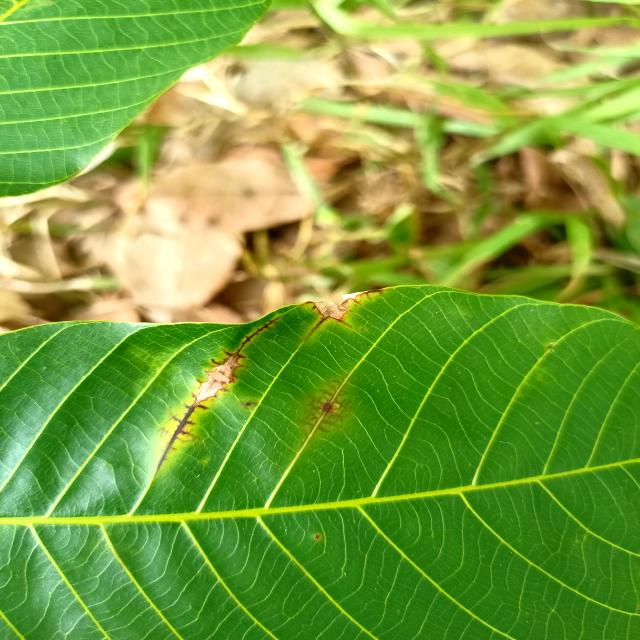Corynespora: (156, 316, 281, 474), (303, 379, 352, 434)
Leaf-Blight: (313, 291, 362, 320), (308, 316, 329, 335)
